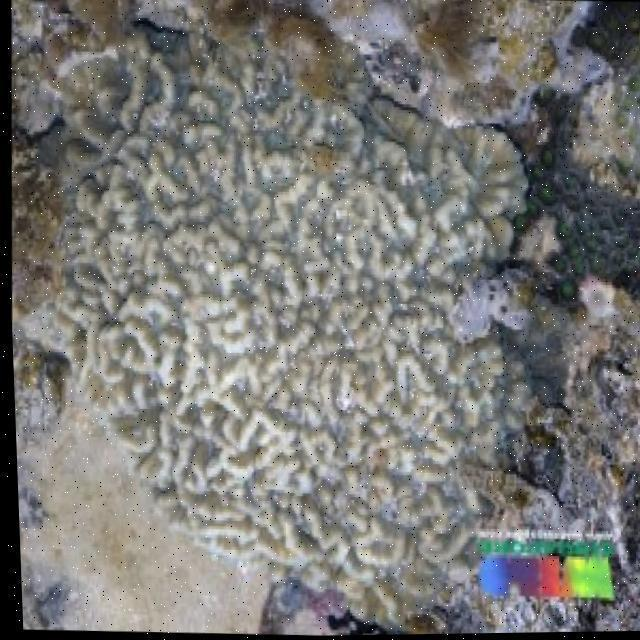Bleached Coral: (77, 86, 497, 499)
